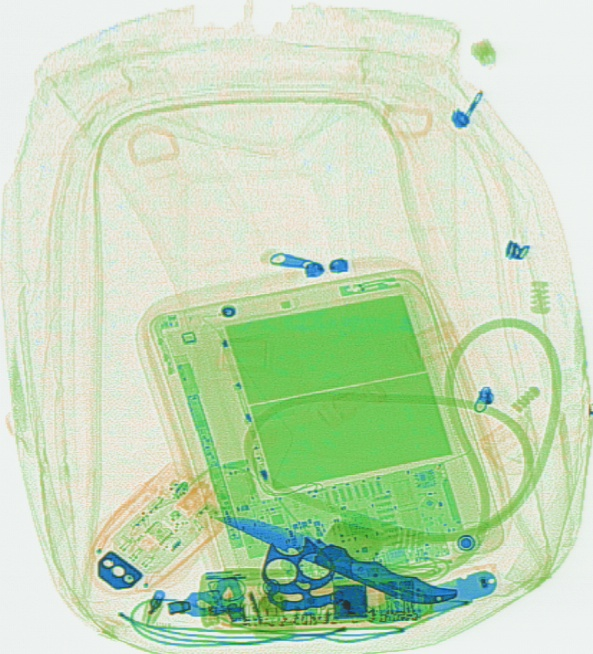knife: (209, 501, 460, 610), (377, 564, 498, 626)
